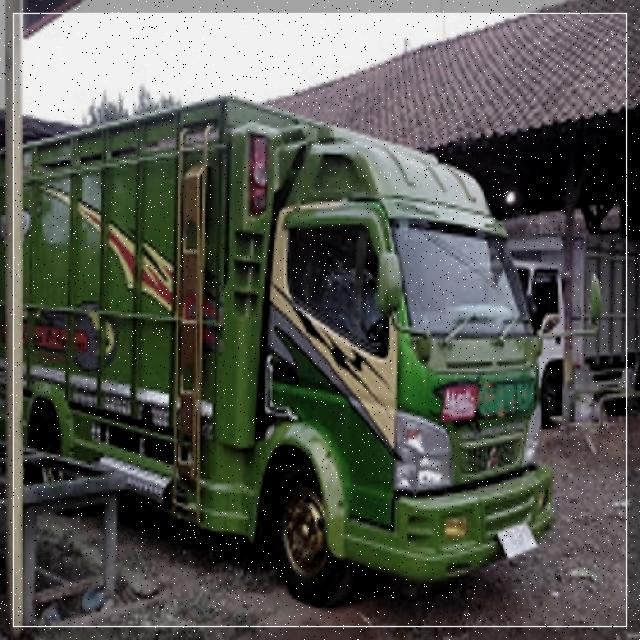truck: (1, 92, 562, 598)
